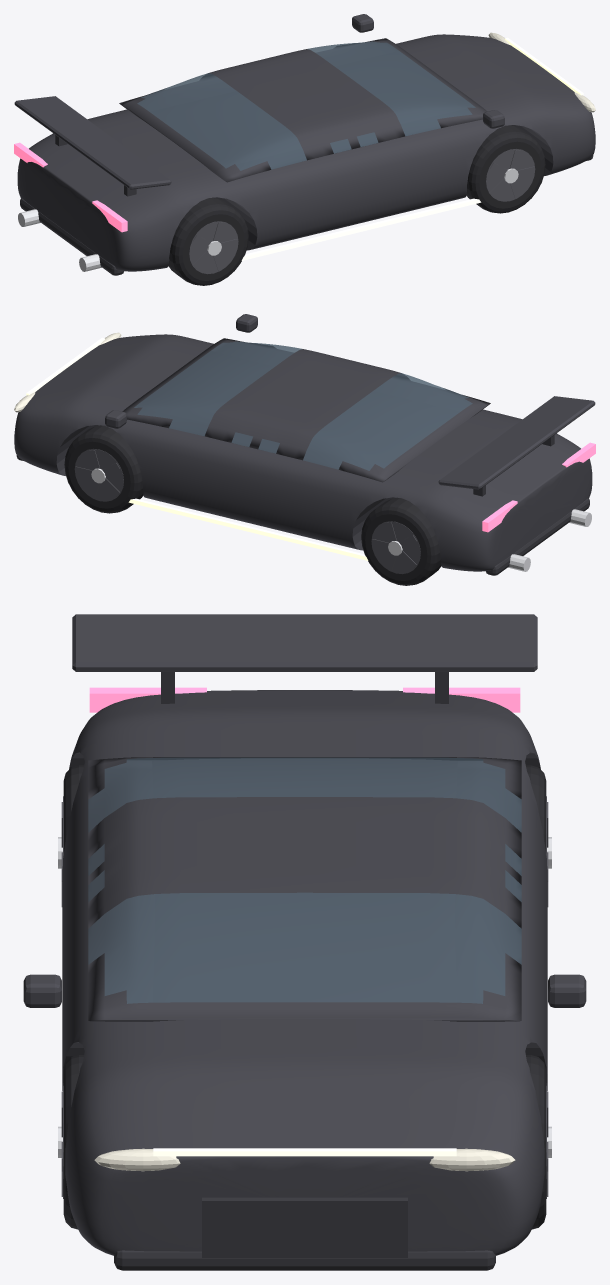
File: eclipse_titan.fbx
3 views of the same model, one above another, from view 1: azimuth 30°, elevation 25°; view 2: azimuth 150°, elevation 25°; view 3: azimuth 270°, elevation 25° (orthographic). The views are drawn at different scales.
Parts seen in each view (by area): view 1: Body.019, Glass.019, Tire.019, Rim.019, Neon.008, Trim.019, Chrome.019, TailLight.019; view 2: Body.019, Glass.019, Tire.019, Rim.019, Neon.008, Trim.019, Chrome.019, TailLight.019; view 3: Body.019, Glass.019, Trim.019, Tire.019, HeadLight.019, Neon.008, TailLight.019, Rim.019.
Boxes of the visible parts, x1,y1,x2,y2 form: Body.019: [14, 14, 595, 271]; Glass.019: [137, 41, 475, 170]; Tire.019: [168, 125, 545, 285]; Rim.019: [189, 149, 535, 274]; Neon.008: [241, 37, 583, 260]; Trim.019: [20, 135, 593, 275]; Chrome.019: [18, 168, 518, 271]; TailLight.019: [14, 142, 127, 232]; Body.019: [14, 314, 595, 571]; Glass.019: [134, 341, 472, 470]; Tire.019: [64, 425, 441, 585]; Rim.019: [74, 449, 420, 574]; Neon.008: [26, 337, 368, 560]; Trim.019: [16, 435, 589, 575]; Chrome.019: [91, 468, 591, 571]; TailLight.019: [482, 442, 595, 532]; Body.019: [23, 614, 586, 1255]; Glass.019: [88, 757, 521, 1003]; Trim.019: [114, 672, 495, 1270]; Tire.019: [63, 765, 546, 1229]; HeadLight.019: [94, 1148, 515, 1171]; Neon.008: [153, 1148, 456, 1156]; TailLight.019: [89, 687, 520, 712]; Rim.019: [61, 796, 548, 1198].
Bounding box in the file's own units: 1641 × 378 × 804.
